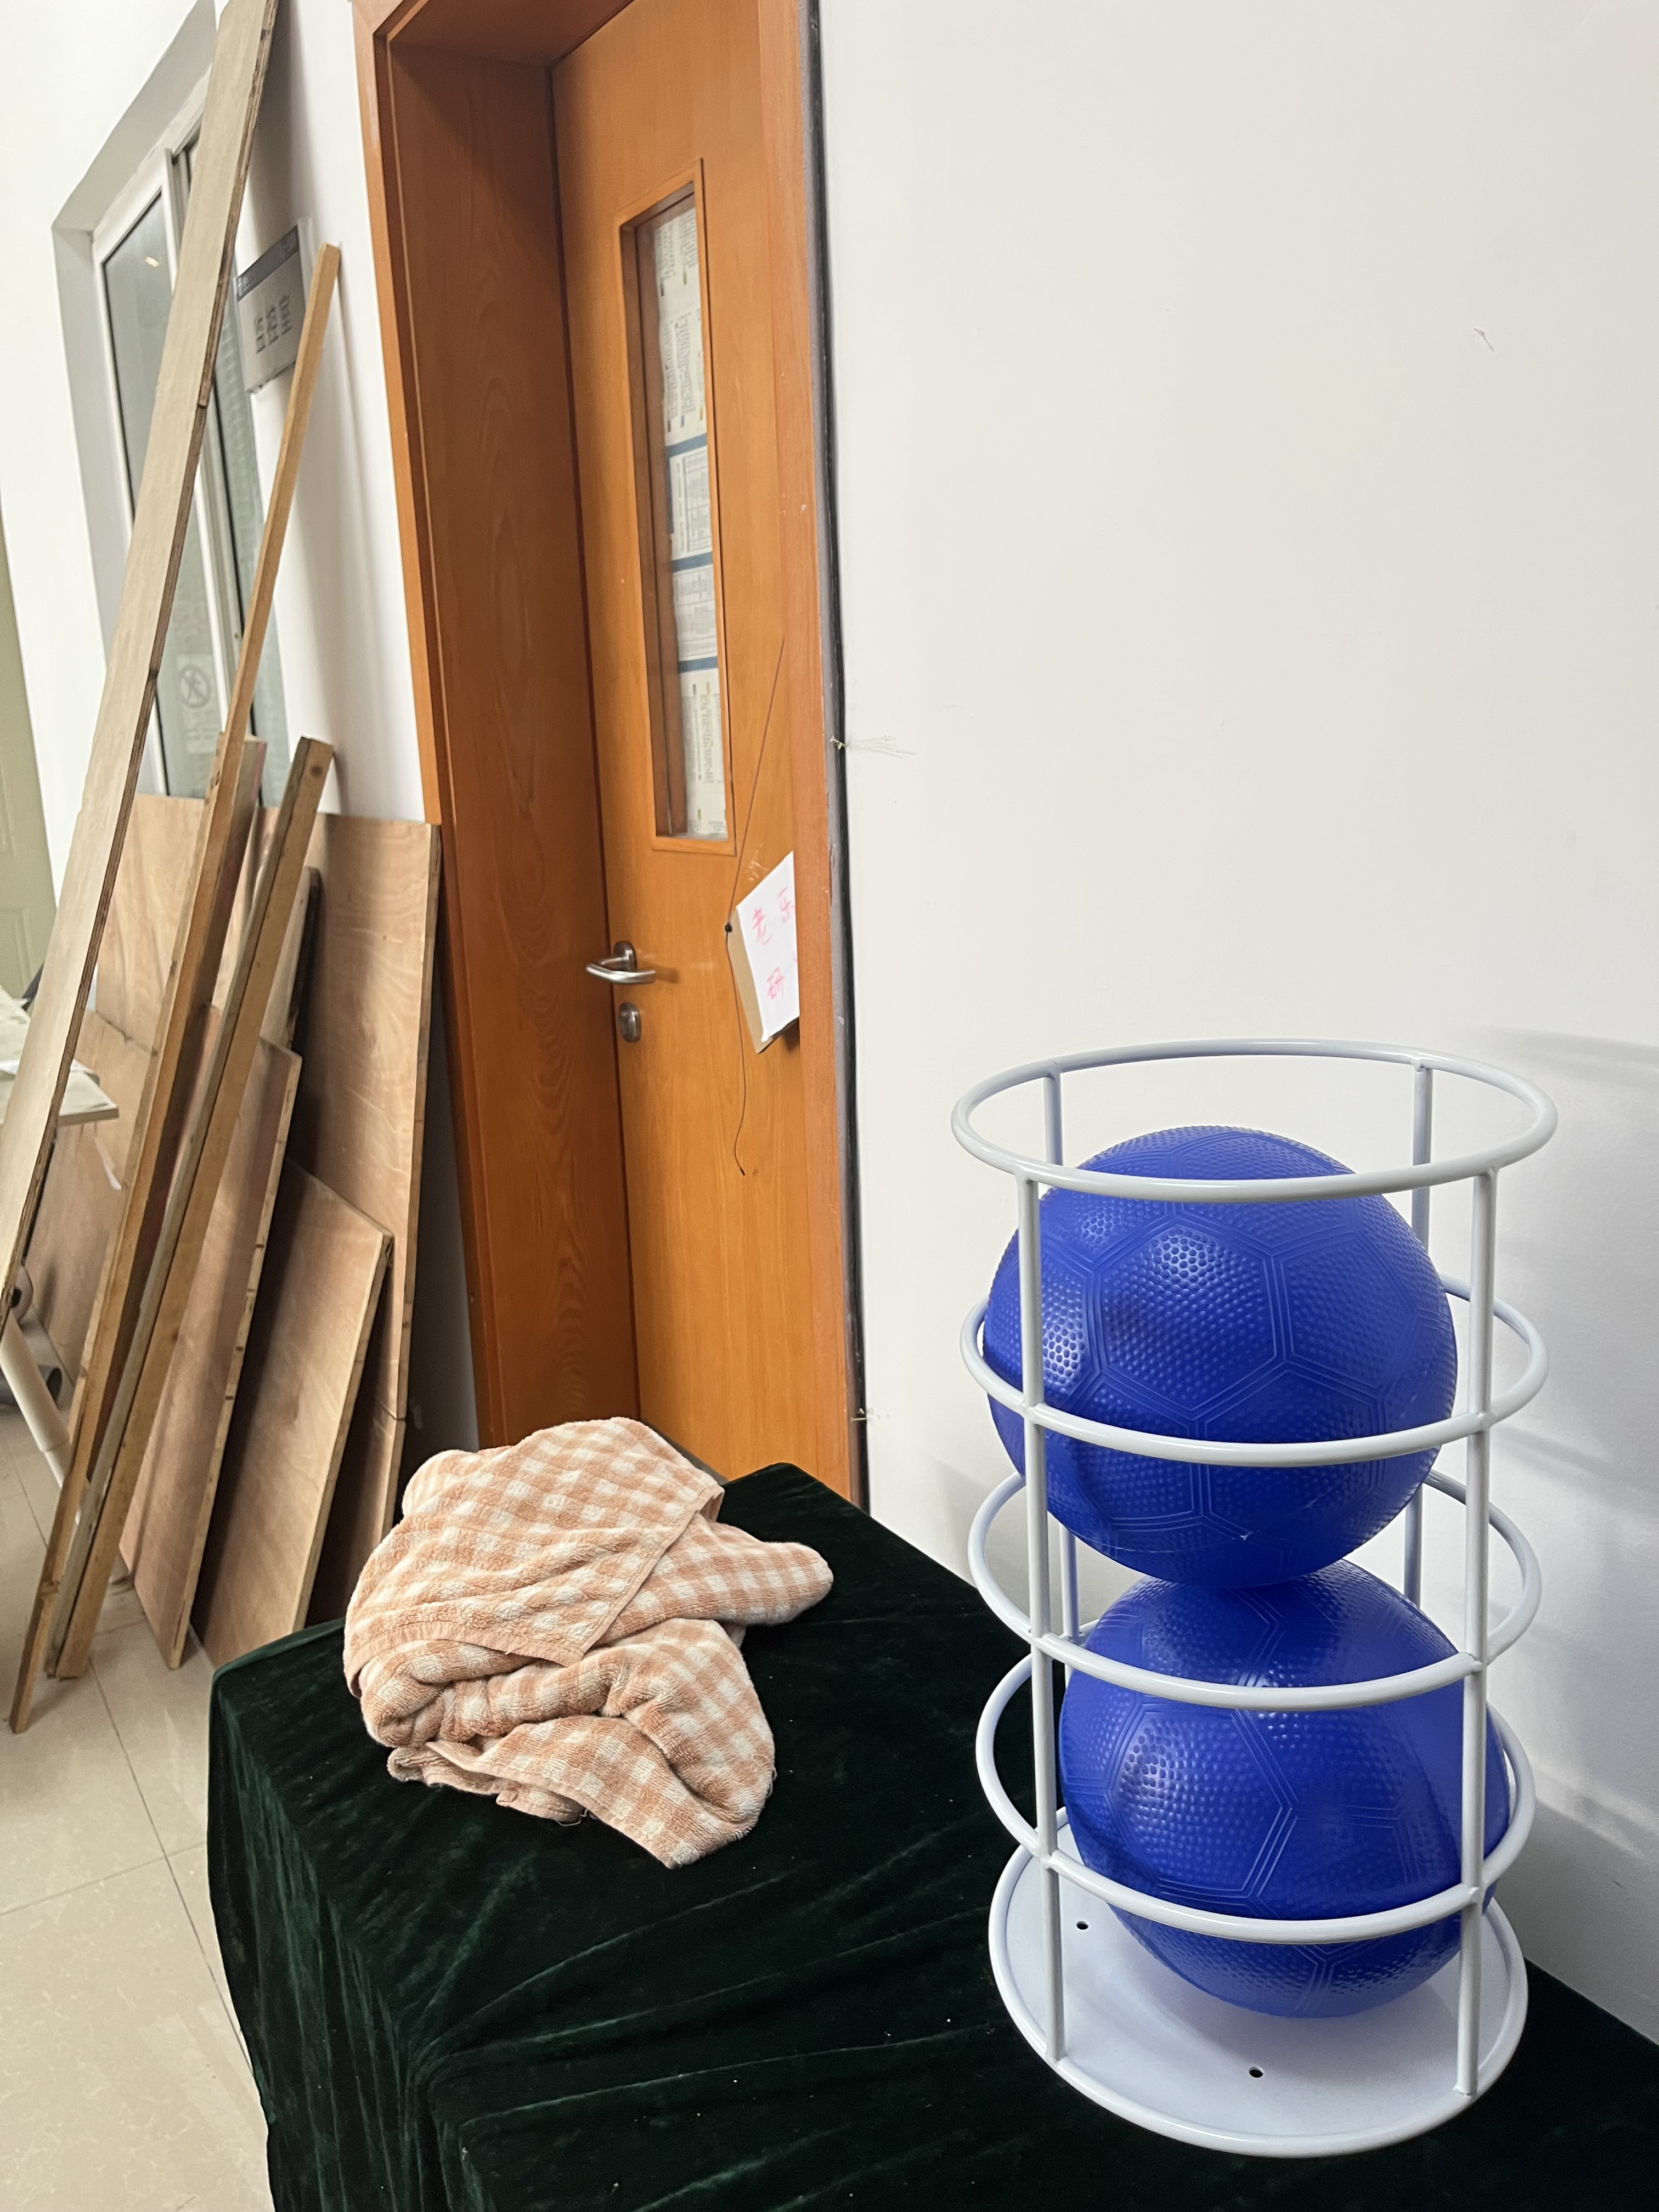blacket: (934, 968, 1561, 2182)
blue: (969, 1130, 1462, 1590), (1047, 1557, 1518, 2027)
